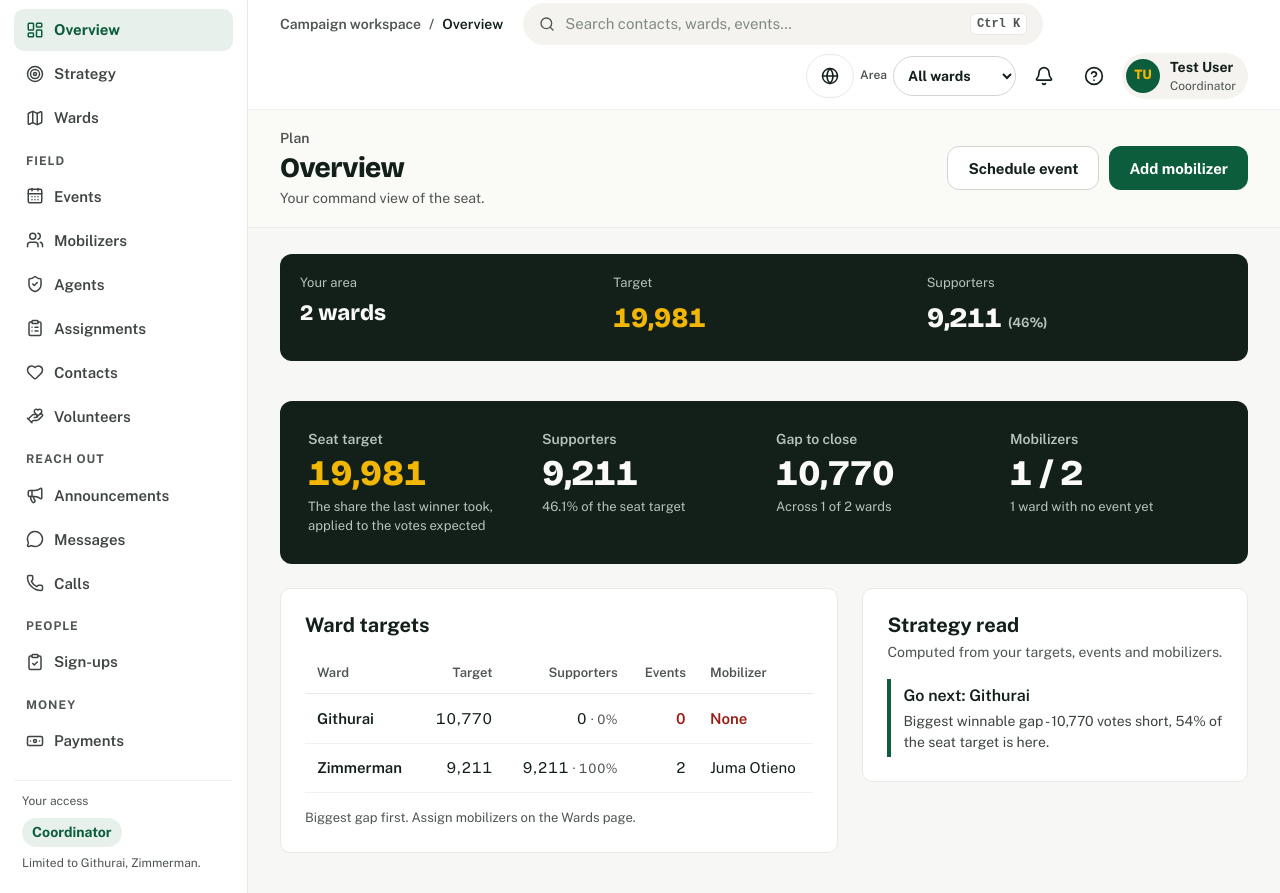
Test: payments › lets a coordinator schedule a payment but leaves releasing to the manager
(page scrolled)
Click the link "Payments" at [75, 741], box [26,732,124,750]
(page scrolled)
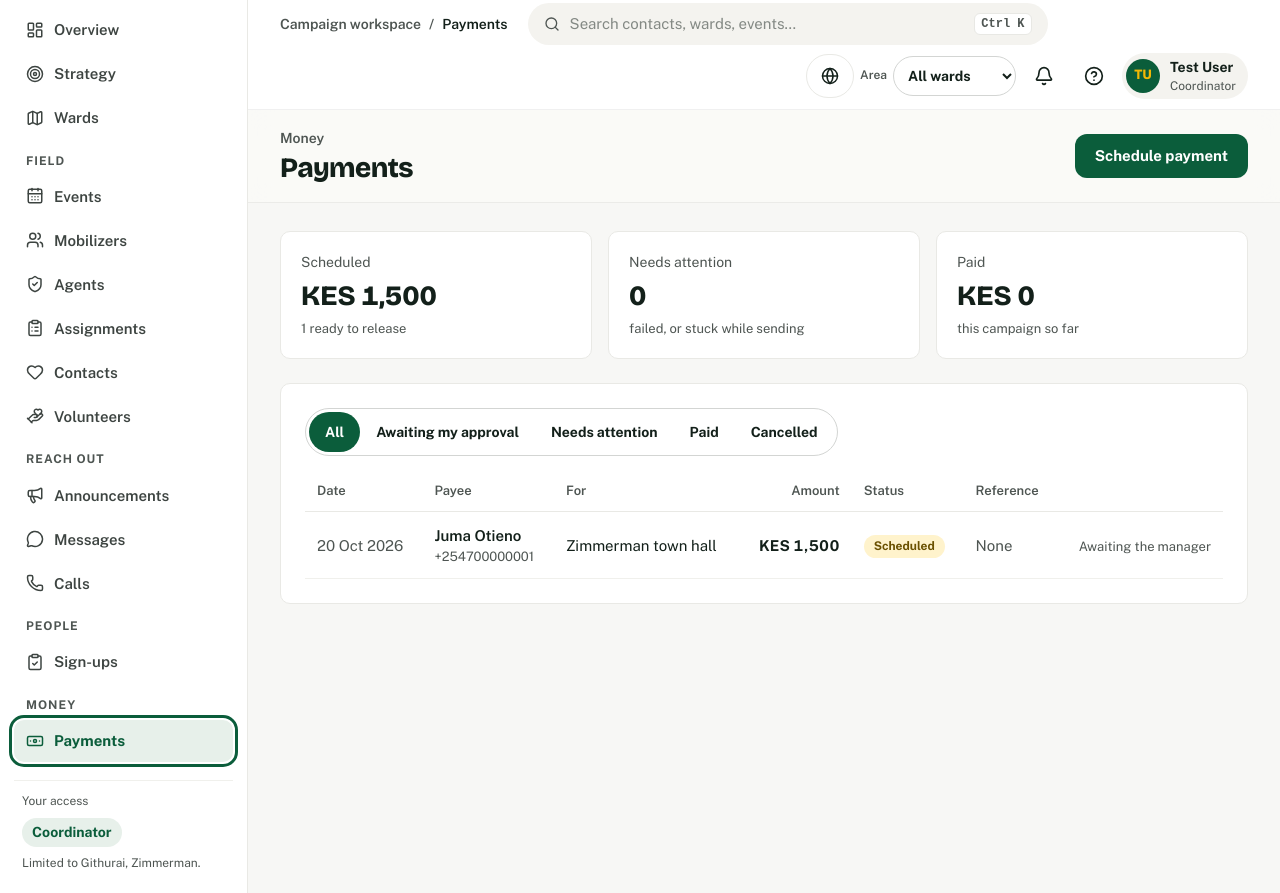
Check: the text "Juma Otieno" is shown, box [434,527,521,544]
Check: the button "Schedule payment" is shown, box [1075,134,1248,178]
